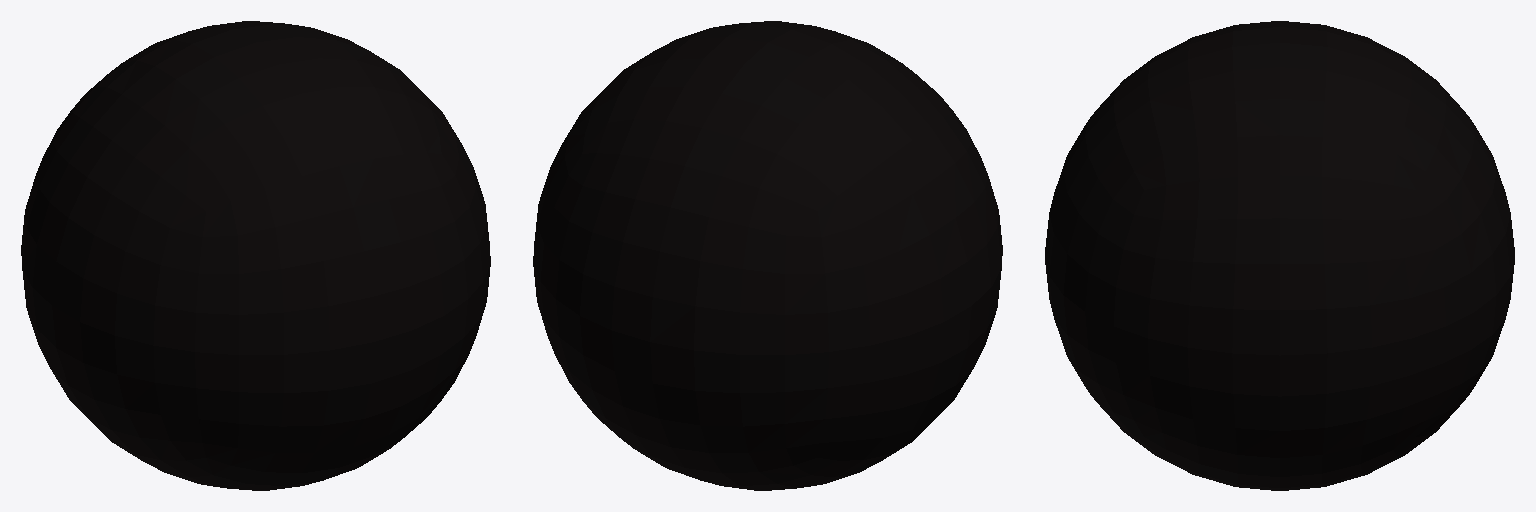
Rendered from cannon_ball.obj.
3 views of the same model, side by side, from view 1: azimuth 30°, elevation 25°; view 2: azimuth 150°, elevation 25°; view 3: azimuth 270°, elevation 25° (orthographic).
Parts seen in each view (by area): view 1: cannon_ball; view 2: cannon_ball; view 3: cannon_ball.
Part boxes in pixels (x1,y1,x2,y2): cannon_ball: (21, 21, 490, 490); cannon_ball: (533, 21, 1002, 490); cannon_ball: (1045, 21, 1514, 490).
Bounding box in the file's own units: 13.47 × 13.47 × 13.47.